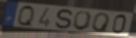0: (111, 14, 129, 35)
4: (37, 7, 52, 29)
O: (71, 10, 94, 31)
Q: (17, 5, 36, 29), (91, 12, 112, 33)
S: (54, 9, 74, 31)
